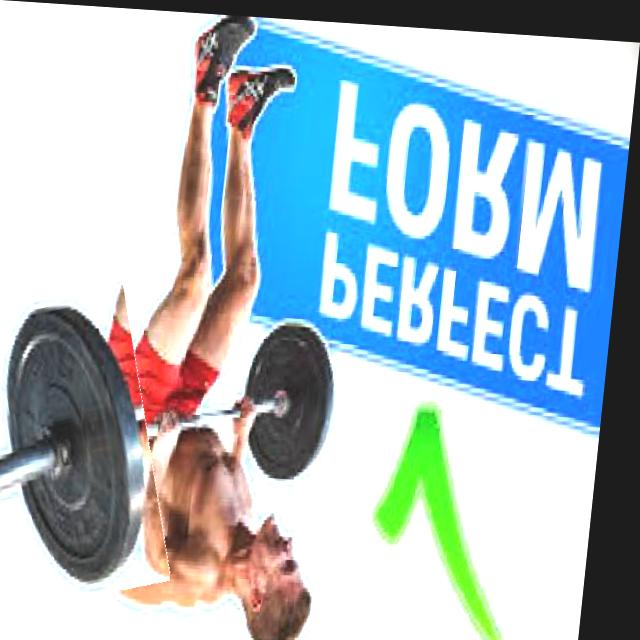barbell: (1, 280, 189, 609)
